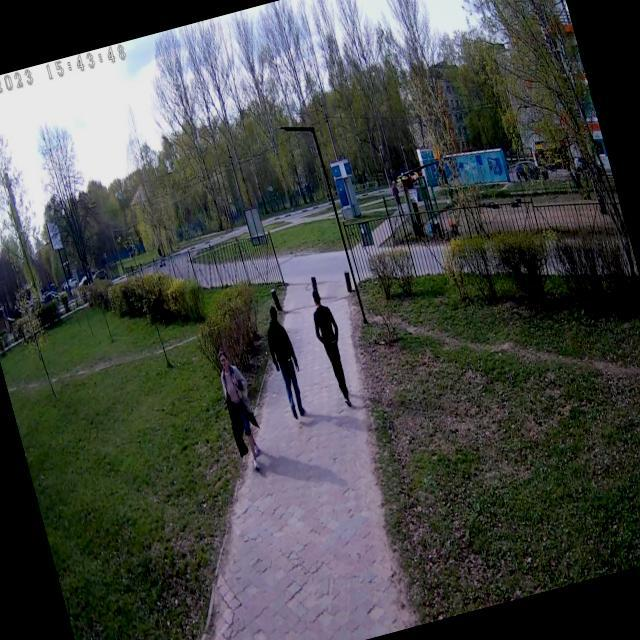person: (213, 344, 270, 475), (304, 284, 359, 412), (258, 301, 312, 422)
